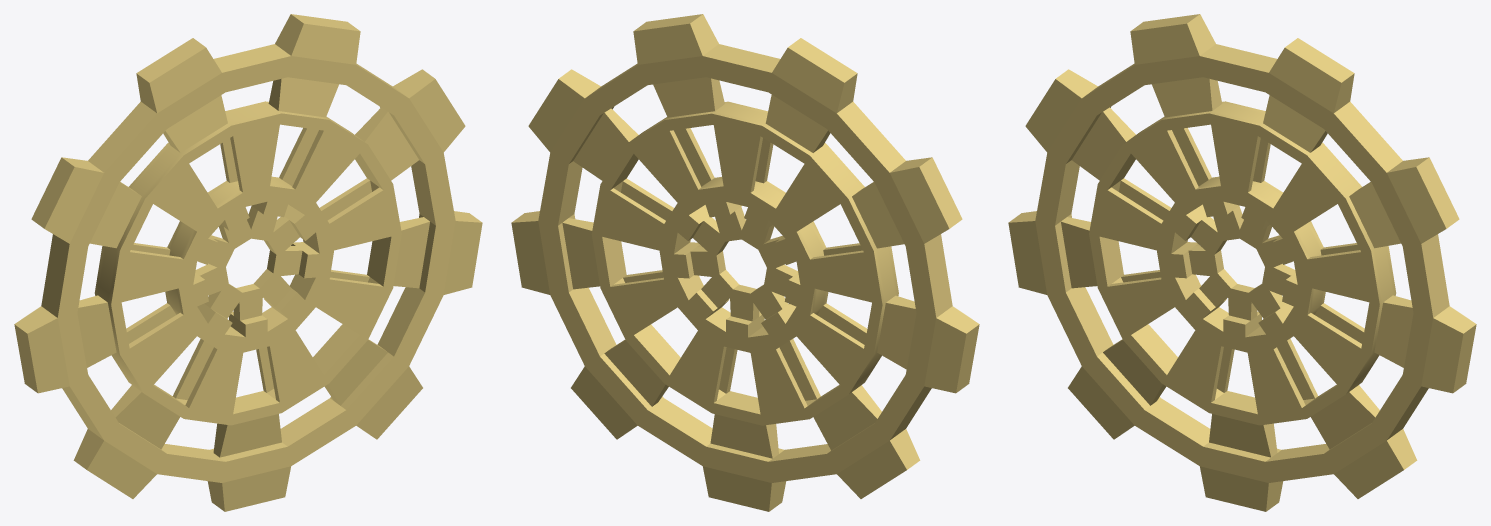
The model's file is haguruma_s2.fbx.
3 renders of one model, left to right at view 1: azimuth 30°, elevation 25°; view 2: azimuth 150°, elevation 25°; view 3: azimuth 330°, elevation 25°, orthographic.
Parts seen in each view (by area): view 1: Cylinder002; view 2: Cylinder002; view 3: Cylinder002.
Part boxes in pixels (x1,y1,x2,y2): Cylinder002: (14, 14, 482, 511); Cylinder002: (511, 14, 979, 511); Cylinder002: (1008, 14, 1476, 511).
Size of the model in its own units: 203 by 200 by 12.81.
